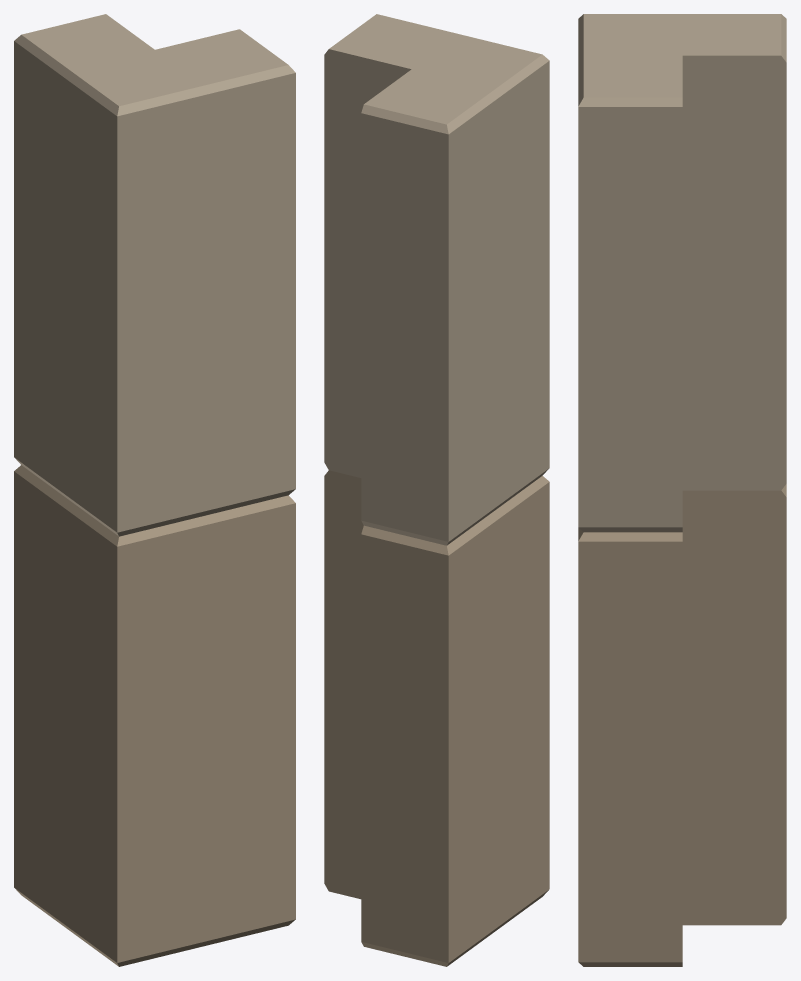
File: Pillar_Exterior_02.glb
3 views of the same model, side by side, from view 1: azimuth 30°, elevation 25°; view 2: azimuth 150°, elevation 25°; view 3: azimuth 270°, elevation 25° (orthographic). The views are drawn at different scales.
Parts seen in each view (by area): view 1: SM_Env_Pillar_Exterior_02; view 2: SM_Env_Pillar_Exterior_02; view 3: SM_Env_Pillar_Exterior_02.
Boxes of the visible parts, box(x1,y1,x2,y2) form: SM_Env_Pillar_Exterior_02: box(14, 14, 295, 966); SM_Env_Pillar_Exterior_02: box(324, 14, 549, 966); SM_Env_Pillar_Exterior_02: box(578, 14, 786, 966).
Bounding box in the file's own units: 0.652 × 3 × 0.652.
1 material, 1 textured.
